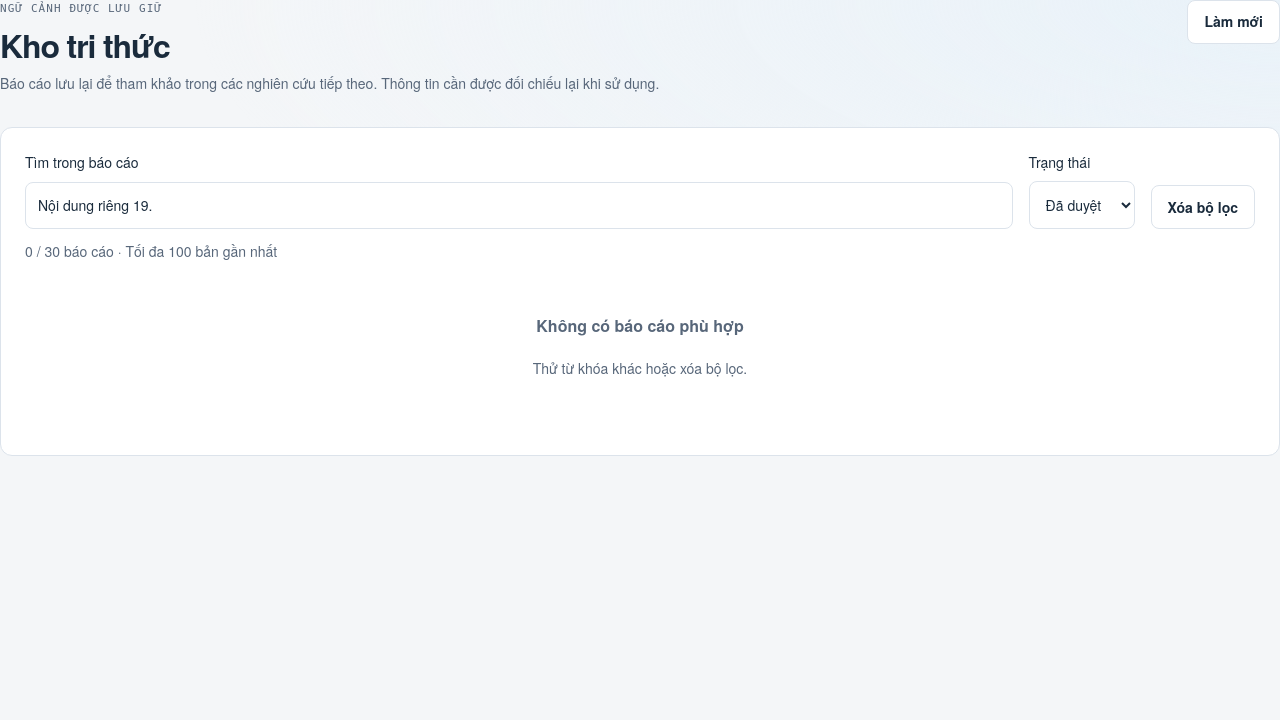
Scenario: saved knowledge library › restores approval filters and distinguishes no matches from first use
Check: the heading "Không có báo cáo phù hợp" is shown, box [536,314,744,337]
Check: the dropdown shows "Đã duyệt", box [1029,181,1135,229]
What coordinates should you click on to do the following:
click the button "Xóa bộ lọc"
I would click on:
 (1203, 207)
Its box is [1151,185,1255,229].
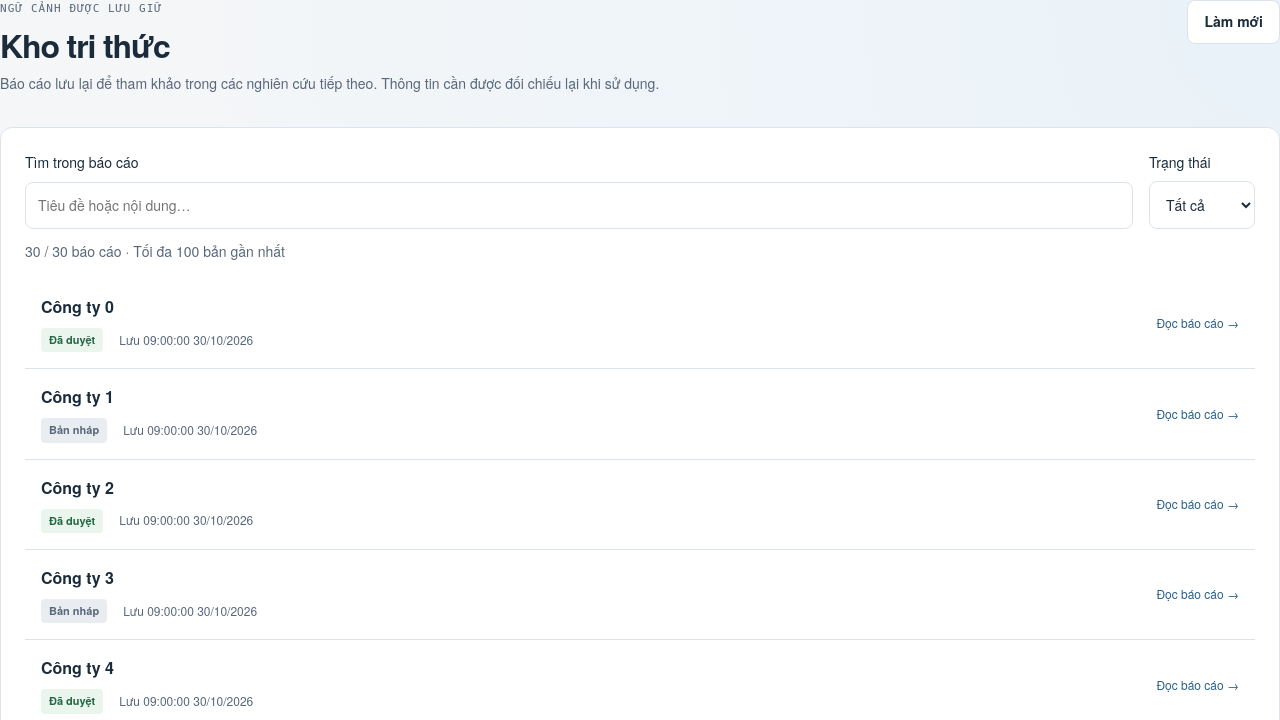
Check: the number of list items is 12
